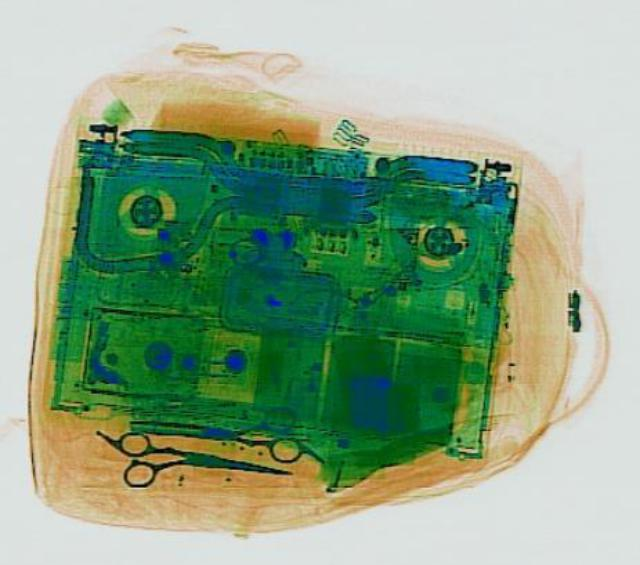Scissors: (112, 429, 294, 499), (124, 392, 306, 461)
